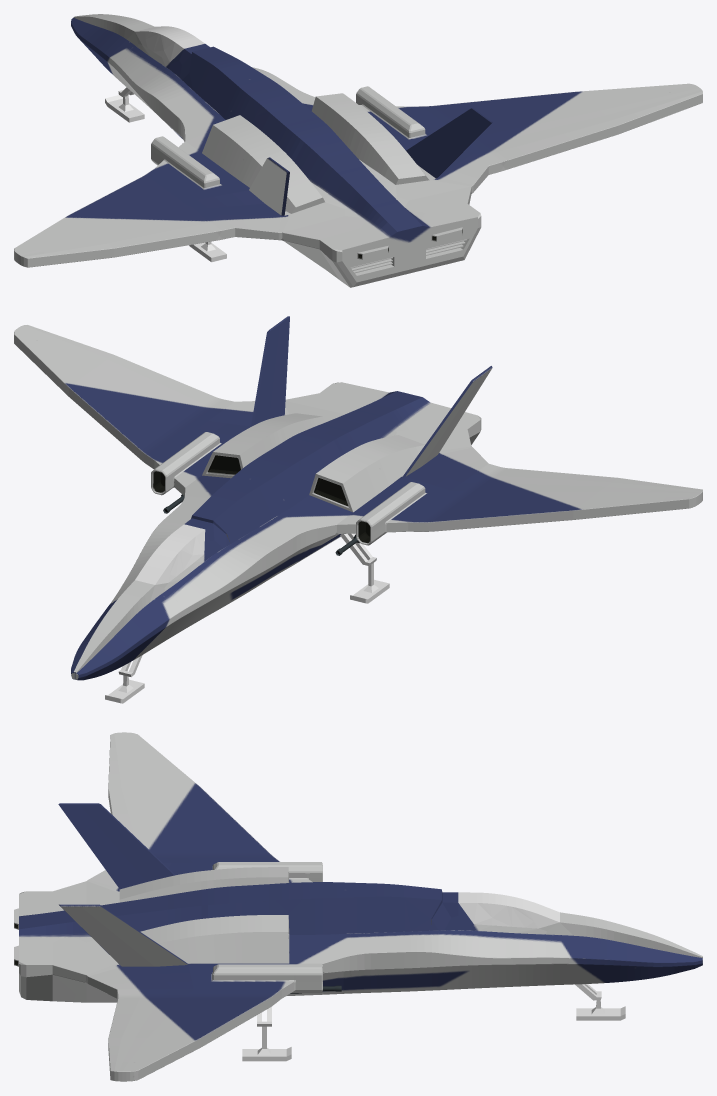
Rendered from SSCHawk2.fbx.
The picture shows the model from 3 angles, top to bottom: view 1: azimuth 30°, elevation 25°; view 2: azimuth 150°, elevation 25°; view 3: azimuth 270°, elevation 25°; orthographic projection. The views are drawn at different scales.
Visible parts, largest first — view 1: SSCHawk_Body_LOD0, SSCHawk_Canopy_LOD0, SSCHawk_LandingGear; view 2: SSCHawk_Body_LOD0, SSCHawk_Canopy_LOD0, SSCHawk_LandingGear; view 3: SSCHawk_Body_LOD0, SSCHawk_Canopy_LOD0, SSCHawk_LandingGear.
Part boxes in pixels (x1,y1,x2,y2): SSCHawk_Body_LOD0: [14, 14, 702, 287]; SSCHawk_Canopy_LOD0: [135, 26, 204, 62]; SSCHawk_LandingGear: [105, 87, 226, 262]; SSCHawk_Body_LOD0: [14, 316, 702, 680]; SSCHawk_Canopy_LOD0: [135, 524, 205, 584]; SSCHawk_LandingGear: [105, 533, 389, 703]; SSCHawk_Body_LOD0: [14, 732, 702, 1081]; SSCHawk_Canopy_LOD0: [458, 892, 559, 928]; SSCHawk_LandingGear: [242, 984, 625, 1061].
Size of what is drawn, in the model's own units: 1621 by 362 by 1390.
